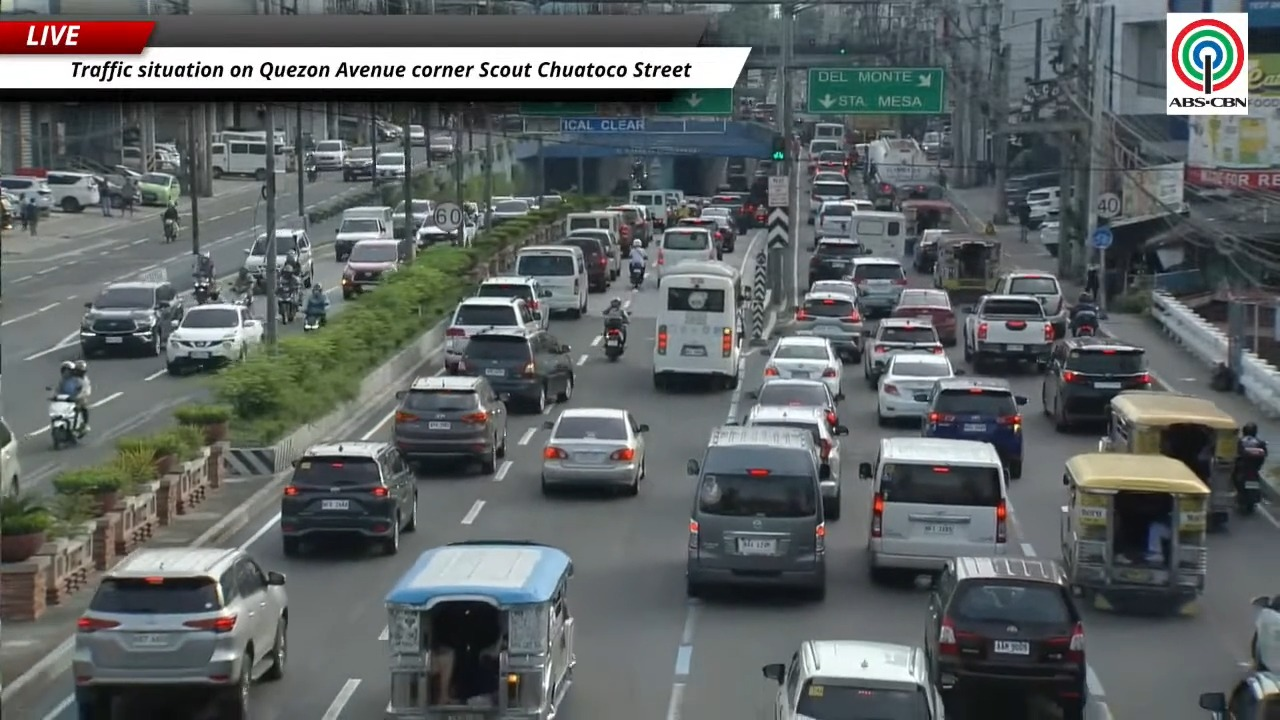bus: (653, 260, 744, 389), (210, 140, 267, 180), (274, 130, 287, 145)
car: (71, 547, 288, 718), (926, 557, 1087, 719), (686, 426, 826, 600), (858, 437, 1010, 583), (279, 441, 417, 556), (762, 640, 944, 719), (743, 405, 848, 520), (393, 375, 507, 473), (921, 377, 1026, 478), (1042, 336, 1151, 431), (457, 328, 575, 413), (541, 407, 648, 495), (79, 281, 184, 357), (444, 296, 540, 373), (165, 303, 263, 374), (862, 318, 943, 388), (877, 353, 954, 426), (764, 335, 843, 400), (792, 290, 863, 361), (992, 271, 1068, 337), (747, 378, 839, 427), (1198, 670, 1279, 719), (476, 275, 549, 329), (890, 288, 957, 346), (341, 239, 403, 299), (849, 257, 906, 317), (557, 231, 611, 291), (807, 237, 864, 285), (676, 216, 734, 258), (274, 228, 314, 288), (45, 171, 100, 212), (414, 214, 479, 248), (1250, 595, 1279, 670), (0, 175, 52, 214), (813, 200, 856, 245), (808, 179, 851, 224), (606, 204, 650, 244), (698, 207, 737, 252), (0, 416, 21, 496), (392, 198, 434, 237), (913, 230, 949, 273), (137, 173, 181, 206), (488, 198, 530, 228), (809, 279, 857, 305), (342, 146, 373, 181), (311, 140, 348, 169), (374, 152, 408, 182), (810, 150, 847, 177), (897, 182, 945, 200), (1038, 220, 1060, 257), (428, 133, 455, 159), (408, 124, 427, 146), (813, 170, 847, 182)
motorcycle: (1236, 447, 1266, 515), (48, 394, 83, 449), (277, 285, 298, 323), (193, 275, 219, 304), (1070, 310, 1098, 336), (603, 327, 624, 361), (629, 266, 645, 290), (236, 290, 254, 311), (163, 218, 178, 243), (303, 314, 324, 331), (305, 158, 319, 182), (1073, 325, 1096, 338)
truck: (962, 294, 1054, 372)
